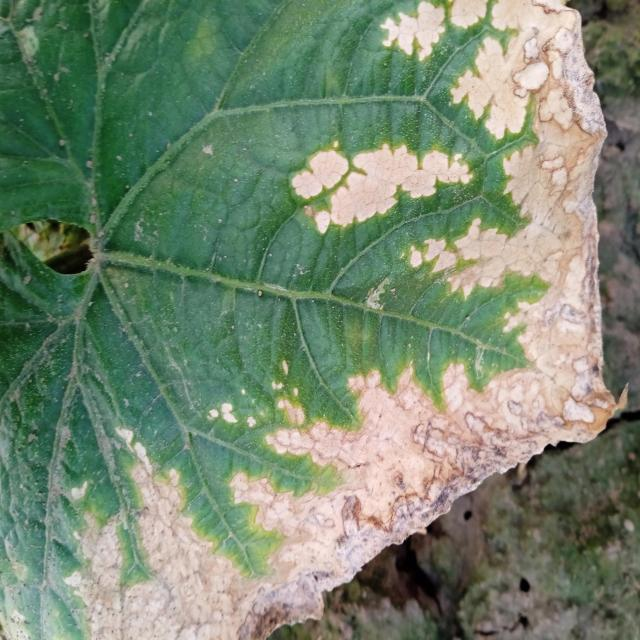cucumber_gummy: (0, 0, 631, 640)
